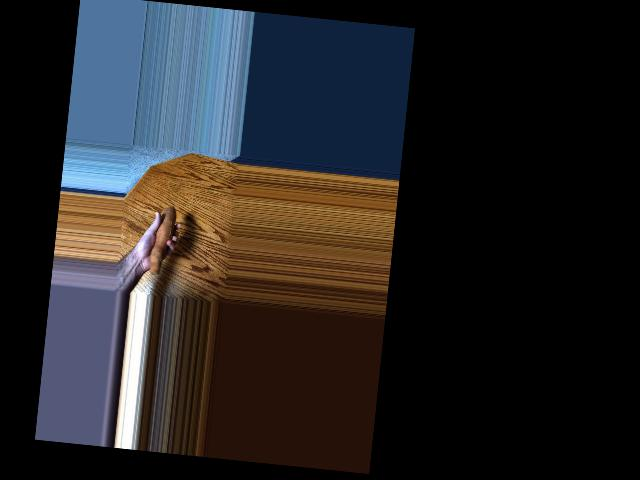sweet_potato: (141, 202, 178, 283)
